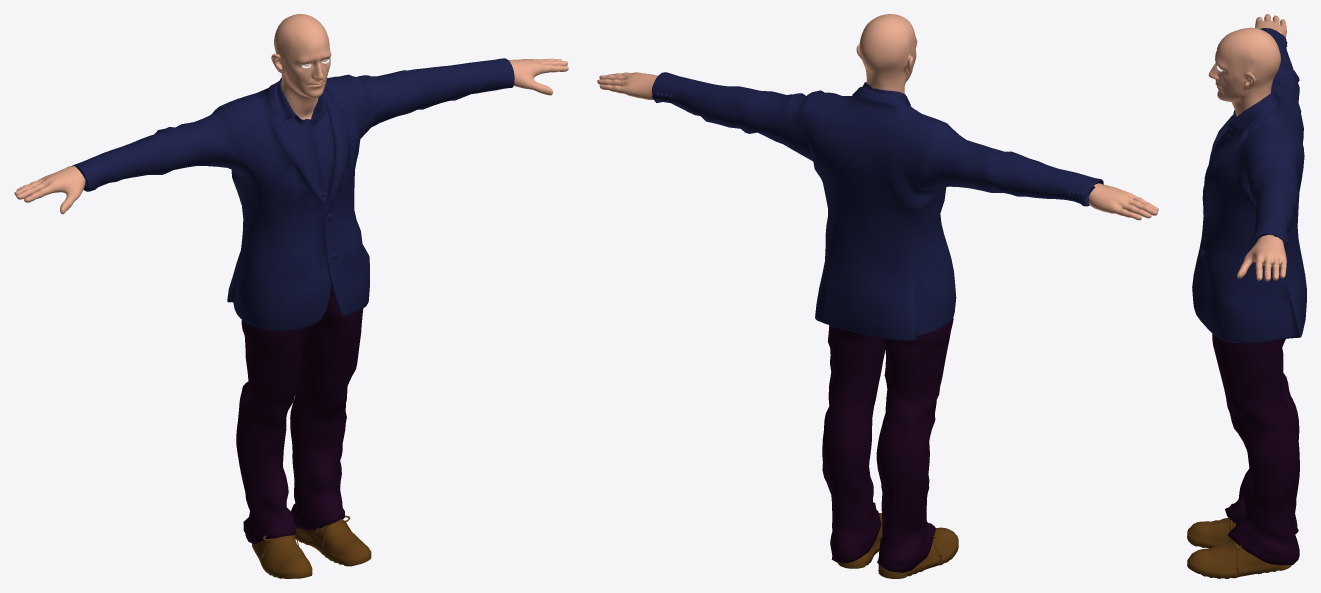
Rendered from charact2er.fbx.
The picture shows the model from 3 angles, left to right: view 1: azimuth 30°, elevation 25°; view 2: azimuth 150°, elevation 25°; view 3: azimuth 270°, elevation 25°; orthographic projection. The views are drawn at different scales.
Visible parts, largest first — view 1: gövde.001, bacaklar.001, kafa_el, ayaklar; view 2: gövde.001, bacaklar.001, kafa_el, ayaklar; view 3: gövde.001, bacaklar.001, kafa_el, ayaklar.
Part boxes in pixels (box(x1,y1,x2,y2)): gövde.001: box(71, 58, 514, 331); bacaklar.001: box(236, 279, 363, 543); kafa_el: box(14, 14, 568, 214); ayaklar: box(252, 515, 371, 578); gövde.001: box(652, 72, 1103, 341); bacaklar.001: box(822, 317, 953, 572); kafa_el: box(597, 14, 1158, 220); ayaklar: box(838, 513, 958, 578); gövde.001: box(1192, 28, 1306, 343); bacaklar.001: box(1212, 334, 1299, 565); kafa_el: box(1208, 14, 1286, 281); ayaklar: box(1187, 517, 1291, 578).
Size of the model in its own units: 194 by 180 by 37.15.
